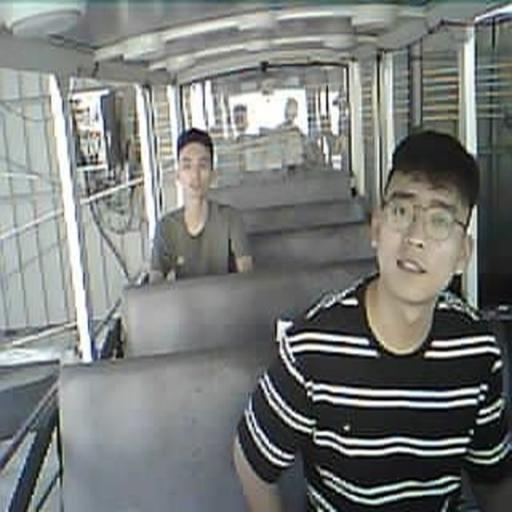persona: (232, 128, 510, 510), (148, 126, 255, 286)
